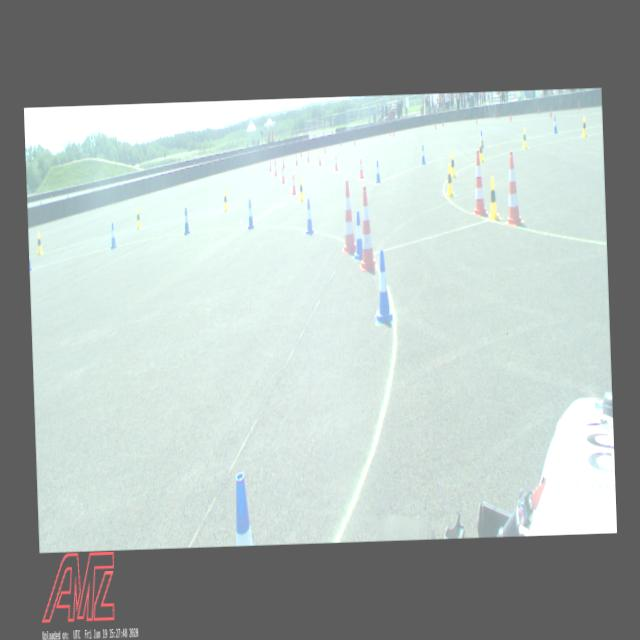blue_cone: (373, 249, 393, 322), (234, 471, 252, 544), (352, 208, 362, 262), (304, 198, 314, 236), (247, 198, 254, 230), (182, 208, 190, 235), (110, 222, 116, 248), (375, 159, 380, 184), (420, 145, 426, 165), (552, 114, 558, 134), (28, 250, 32, 270), (480, 129, 484, 148)
large_orange_cone: (357, 186, 378, 270), (502, 150, 524, 227), (469, 149, 489, 217), (339, 180, 356, 254)
orange_cone: (290, 173, 296, 194), (358, 158, 363, 178), (333, 154, 338, 171), (281, 156, 285, 169), (281, 170, 285, 182), (295, 152, 298, 166), (268, 160, 272, 170), (318, 153, 321, 166), (306, 150, 309, 162), (274, 162, 276, 176)
yellow_cone: (486, 178, 499, 220), (444, 164, 453, 196), (450, 151, 456, 177), (35, 232, 42, 254), (521, 128, 528, 148), (298, 177, 304, 200), (581, 115, 587, 137), (222, 189, 228, 211), (135, 206, 141, 228), (478, 142, 484, 161)
